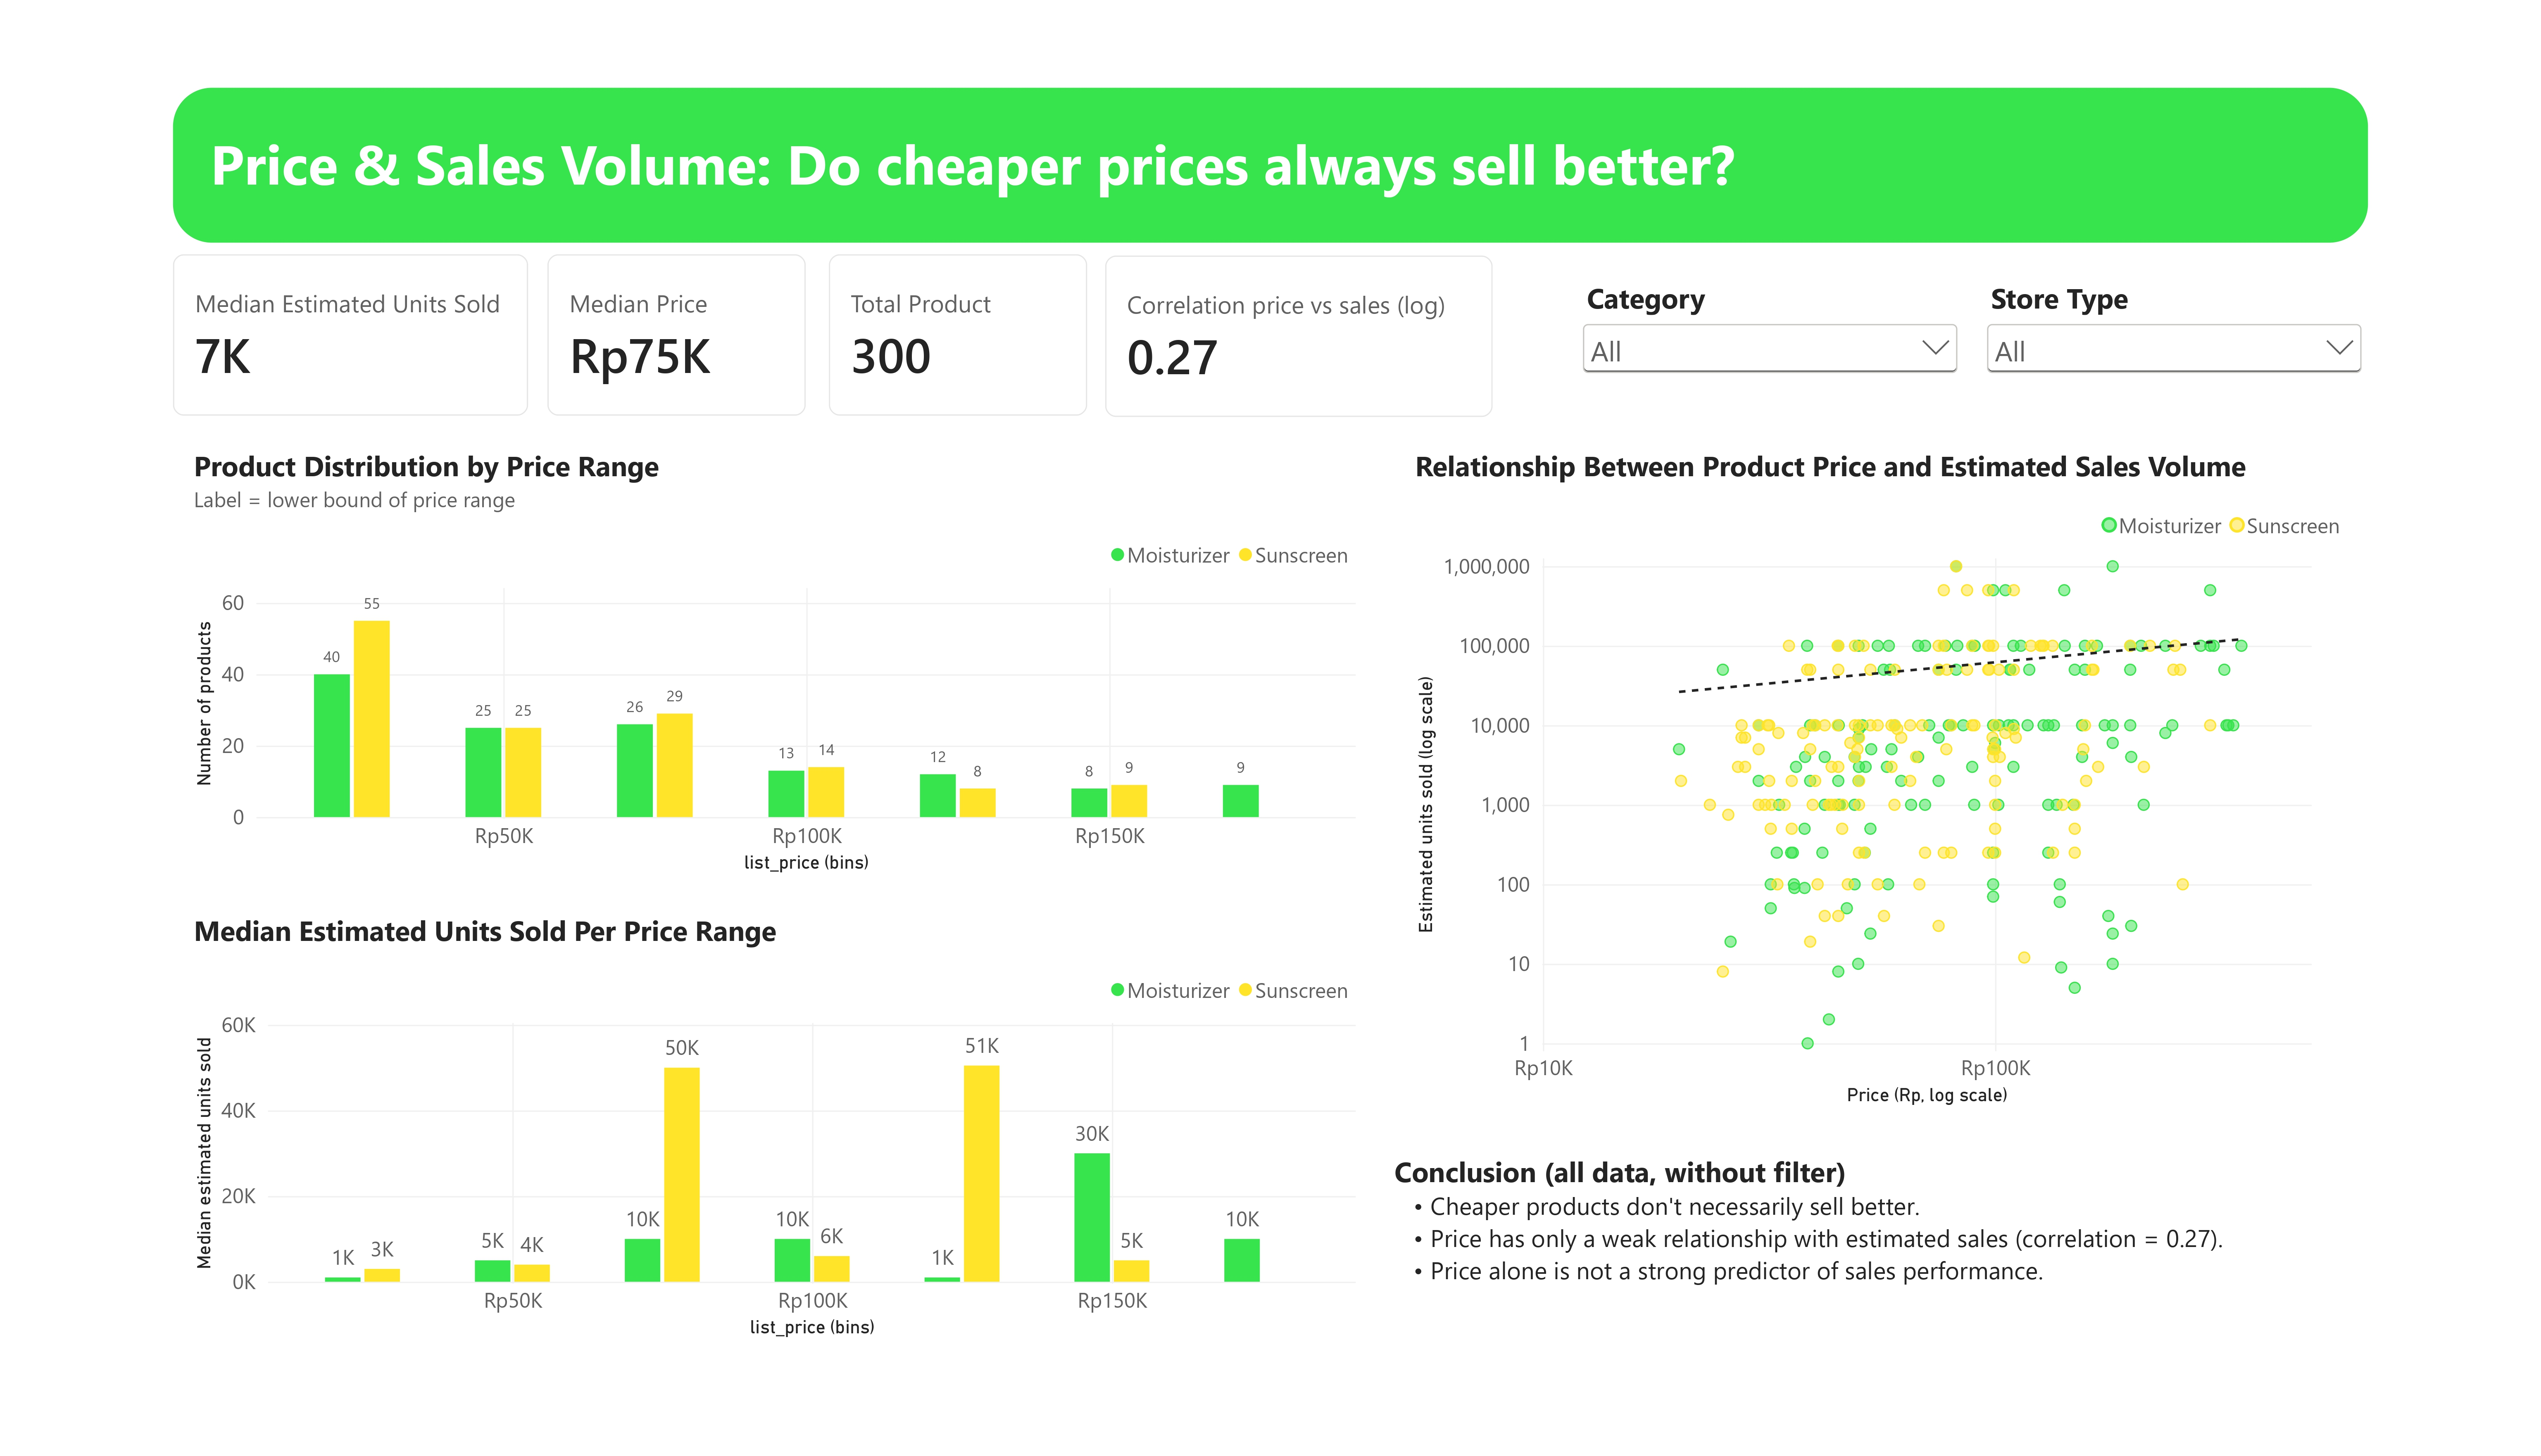

Layout of this report page (visuals, bound fields, positions):
{"tool":"powerbi","page":{"name":"RQ1","canvas":[1920,1080],"ordinal":0},"visuals":[{"type":"cardVisual","fields":{"Data":["clean_skincare.Median Harga"]},"box":[400,173.3,200,125],"z":0},{"type":"cardVisual","fields":{"Data":["clean_skincare.Median Terjual"]},"box":[110,173.3,275,125],"z":1000},{"type":"cardVisual","fields":{"Data":["clean_skincare.Korelasi Log"]},"box":[832,174,300,125],"z":2000},{"type":"shape","box":[110,44,1700,120],"z":3000},{"type":"slicer","fields":{"Values":["clean_skincare.search_keyword"]},"box":[1196.7,191.7,300,88.3],"z":4000},{"type":"clusteredColumnChart","title":"Product Distribution by Price Range","fields":{"Category":["clean_skincare.list_price (bins)"],"Series":["clean_skincare.search_keyword"],"Y":["clean_skincare.Total Product"]},"box":[110,308,932,360],"z":5000},{"type":"clusteredColumnChart","title":"Median Estimated Units Sold Per Price Range","fields":{"Category":["clean_skincare.list_price (bins)"],"Series":["clean_skincare.search_keyword"],"Y":["Median(clean_skincare.estimated_sold)"]},"box":[110,668,932,360],"z":6000},{"type":"scatterChart","title":"Relationship Between Product Price and Estimated Sales Volume","fields":{"Series":["clean_skincare.search_keyword"],"X":["clean_skincare.list_price"],"Y":["clean_skincare.estimated_sold"]},"box":[1056,308,754,540],"z":7000},{"type":"cardVisual","fields":{"Data":["clean_skincare.Total Product"]},"box":[618.3,173.3,200,125],"z":8000},{"type":"slicer","fields":{"Values":["clean_skincare.shop_badge"]},"box":[1510,191.7,300,88.3],"z":9000},{"type":"textbox","box":[1055,868.3,755,211.7],"z":10000}]}

Visuals, with their boxes on the page's 1920x1080 design canvas (x1, y1, x2, y2). These are canvas units, not pixel positions in the 2541x1456 screenshot, which may show the page scaled, cropped or inside an application window:
cardVisual - clean_skincare.Median Harga: x1=400 y1=173 x2=600 y2=298
cardVisual - clean_skincare.Median Terjual: x1=110 y1=173 x2=385 y2=298
cardVisual - clean_skincare.Korelasi Log: x1=832 y1=174 x2=1132 y2=299
shape: x1=110 y1=44 x2=1810 y2=164
slicer - clean_skincare.search_keyword: x1=1197 y1=192 x2=1497 y2=280
"Product Distribution by Price Range" clusteredColumnChart: x1=110 y1=308 x2=1042 y2=668
"Median Estimated Units Sold Per Price Range" clusteredColumnChart: x1=110 y1=668 x2=1042 y2=1028
"Relationship Between Product Price and Estimated Sales Volume" scatterChart: x1=1056 y1=308 x2=1810 y2=848
cardVisual - clean_skincare.Total Product: x1=618 y1=173 x2=818 y2=298
slicer - clean_skincare.shop_badge: x1=1510 y1=192 x2=1810 y2=280
textbox: x1=1055 y1=868 x2=1810 y2=1080
